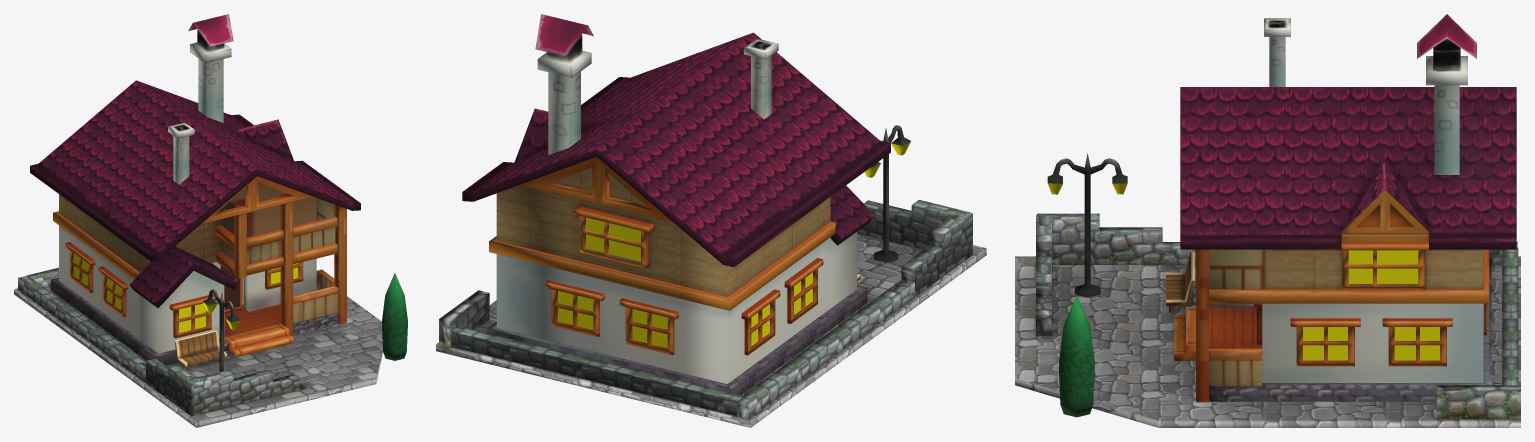
3 views of the same model, side by side, from view 1: azimuth 30°, elevation 25°; view 2: azimuth 150°, elevation 25°; view 3: azimuth 270°, elevation 25° (orthographic). The views are drawn at different scales.
Visible parts, largest first — view 1: Haus1; view 2: Haus1; view 3: Haus1.
Boxes of the visible parts, x1,y1,x2,y2 form: Haus1: (14,14,407,427); Haus1: (436,14,986,427); Haus1: (1015,14,1520,427).
Size of the model in its own units: 18.45 by 18.45 by 24.
4 materials, 2 textured.
